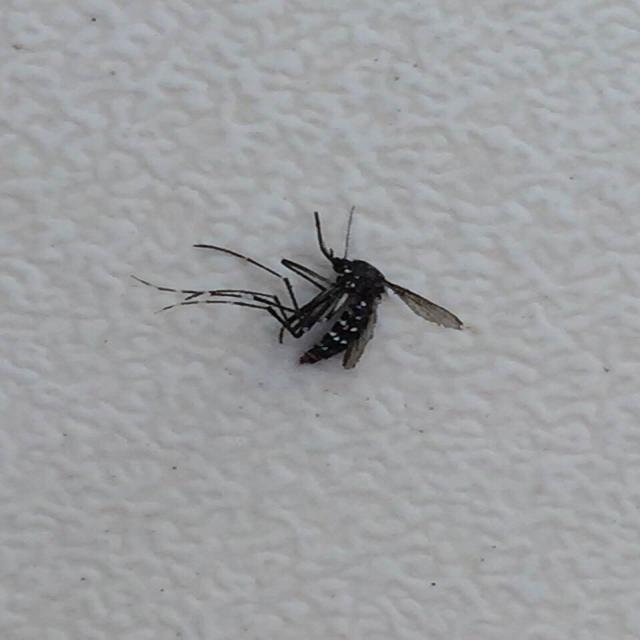albopictus: (127, 200, 467, 378)
